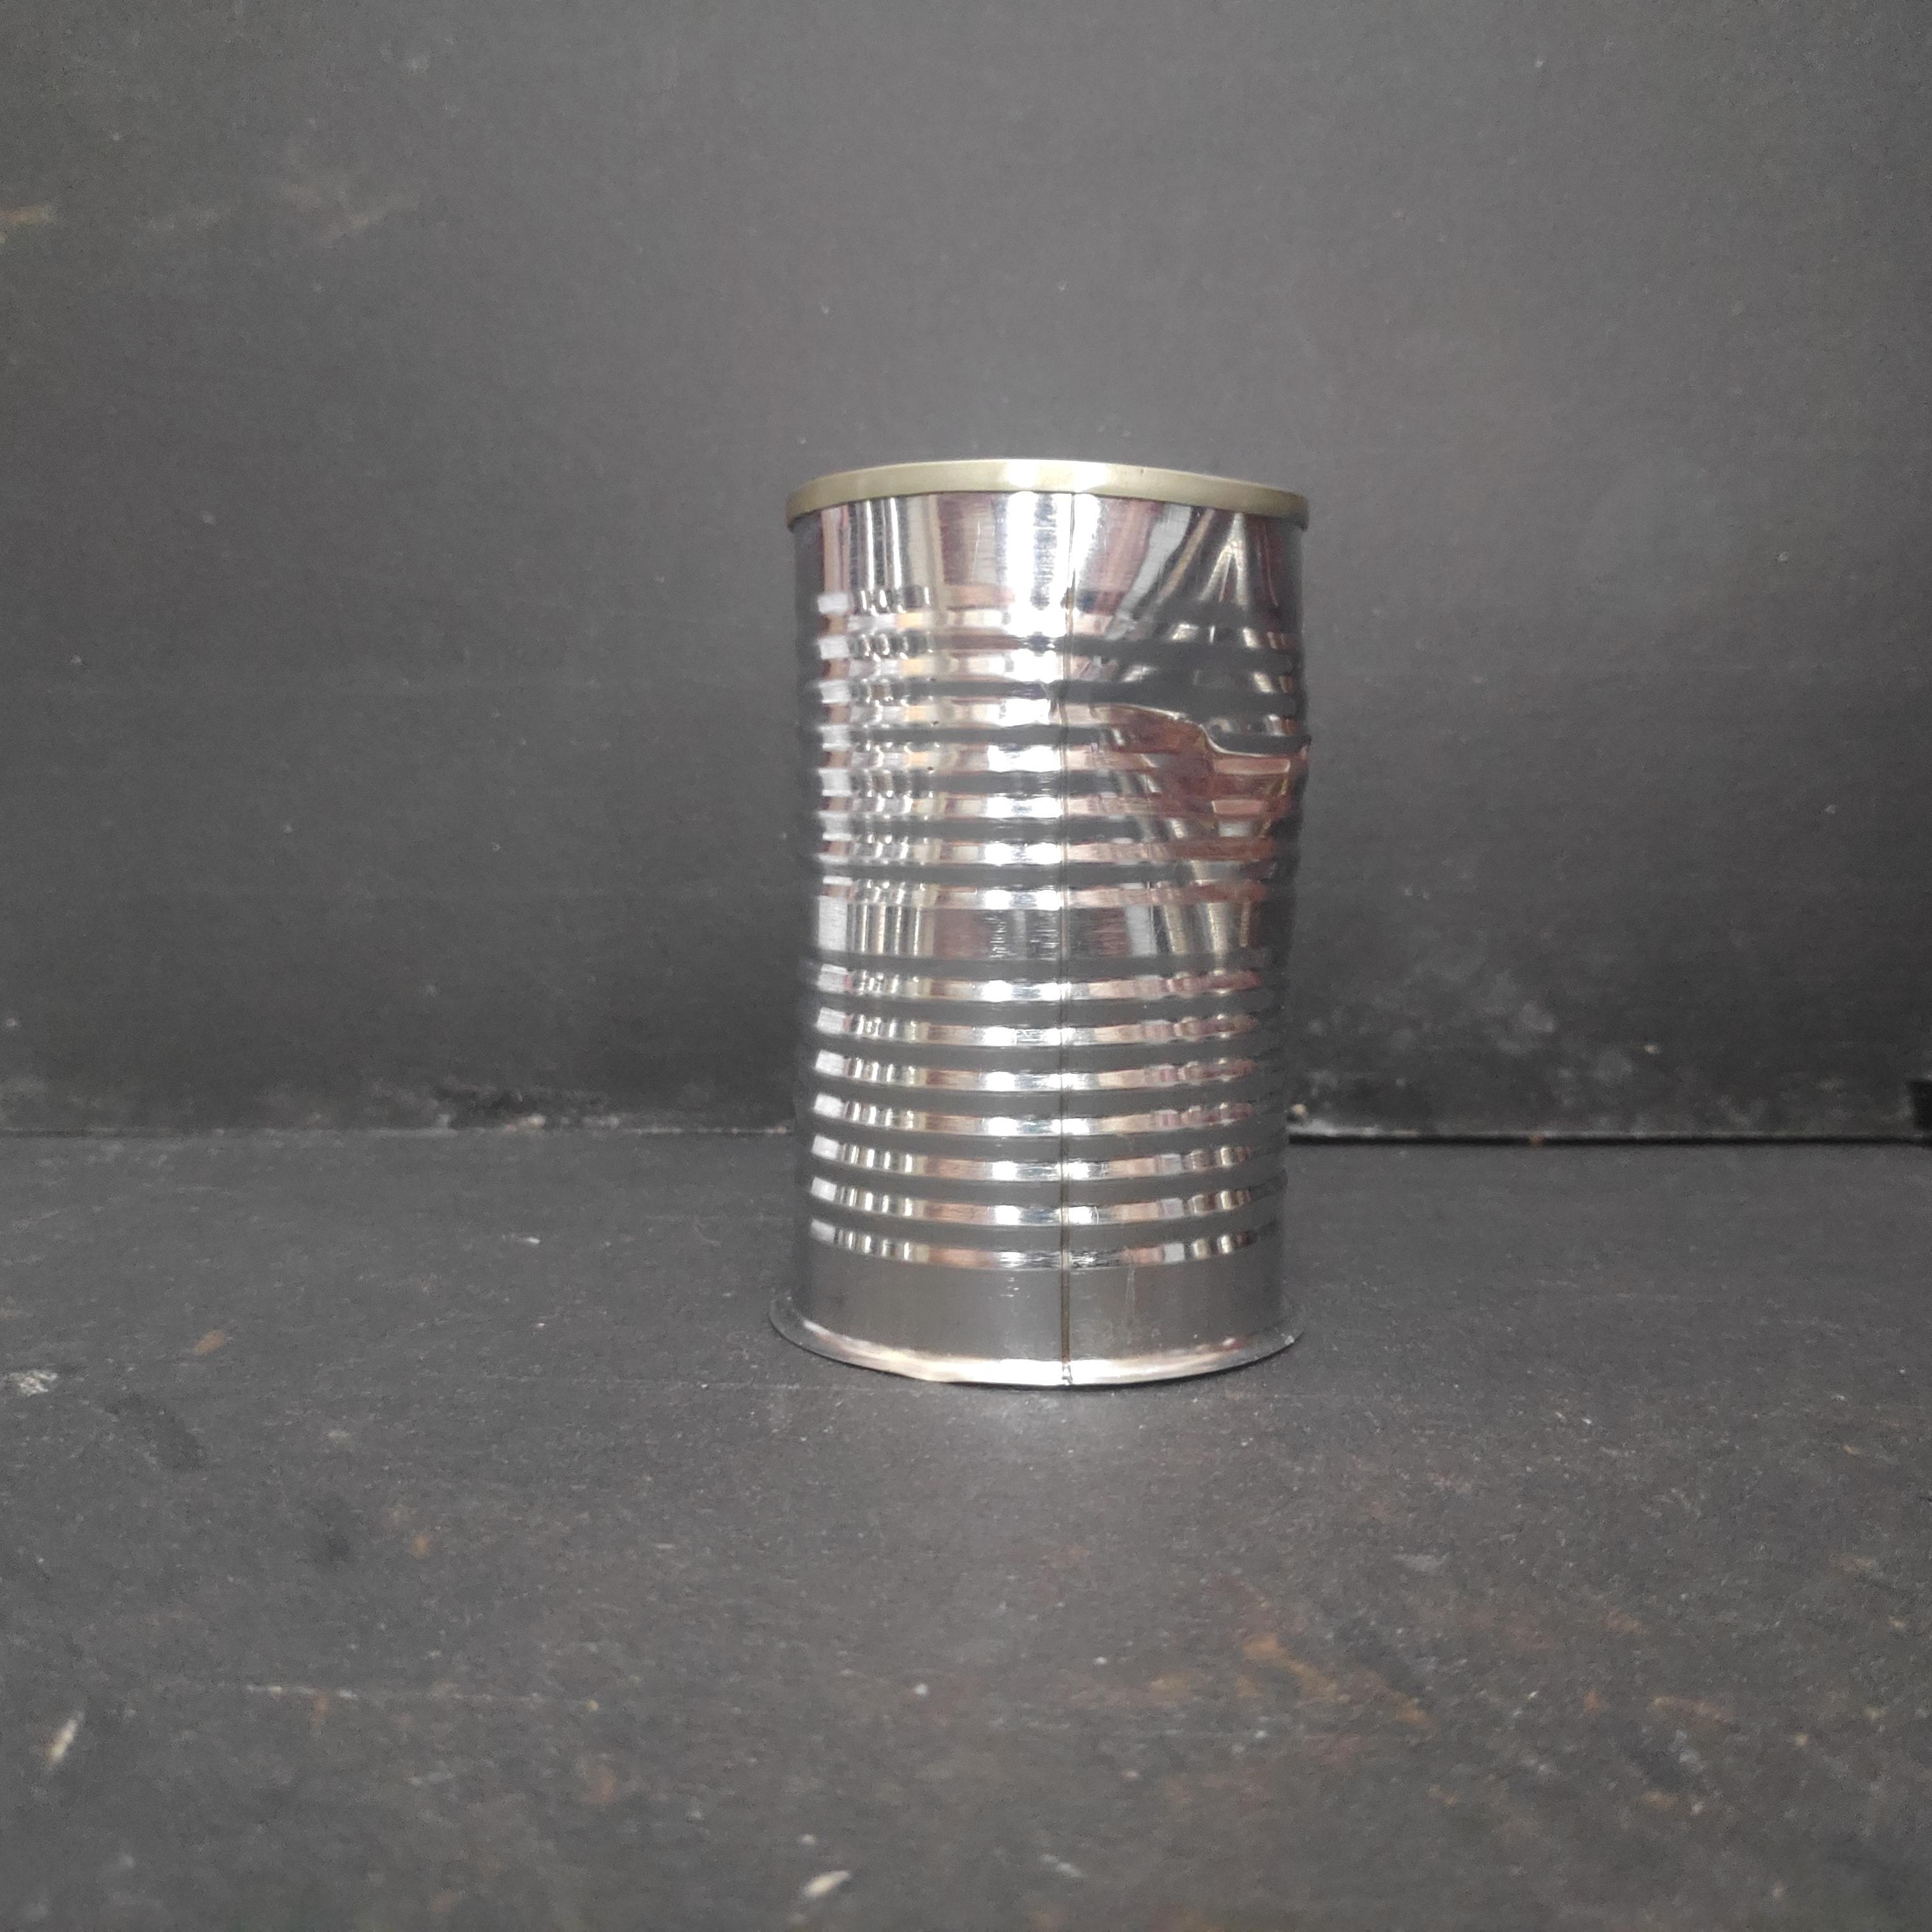Minor Defect: (771, 448, 1332, 1405)
